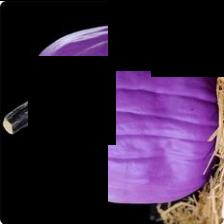purple: (31, 24, 218, 201)
